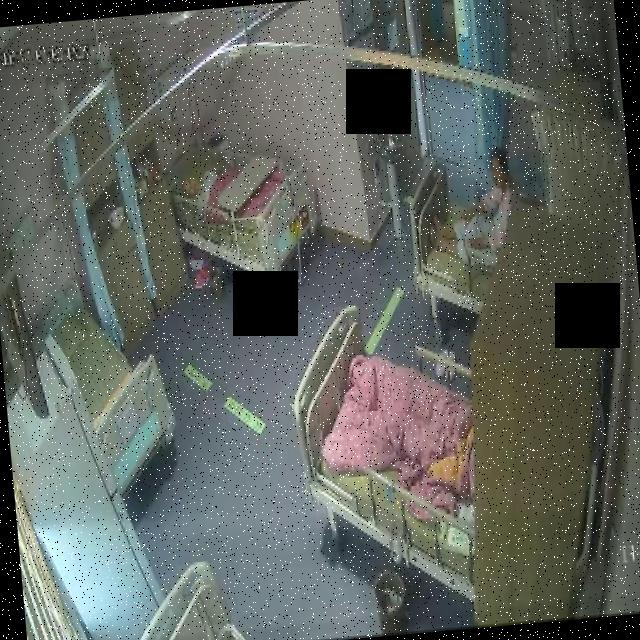bed: (290, 303, 488, 582), (164, 118, 320, 282), (46, 274, 168, 463), (402, 152, 510, 316)
patient: (424, 146, 520, 270), (180, 162, 228, 211)
sit: (422, 148, 520, 273)
